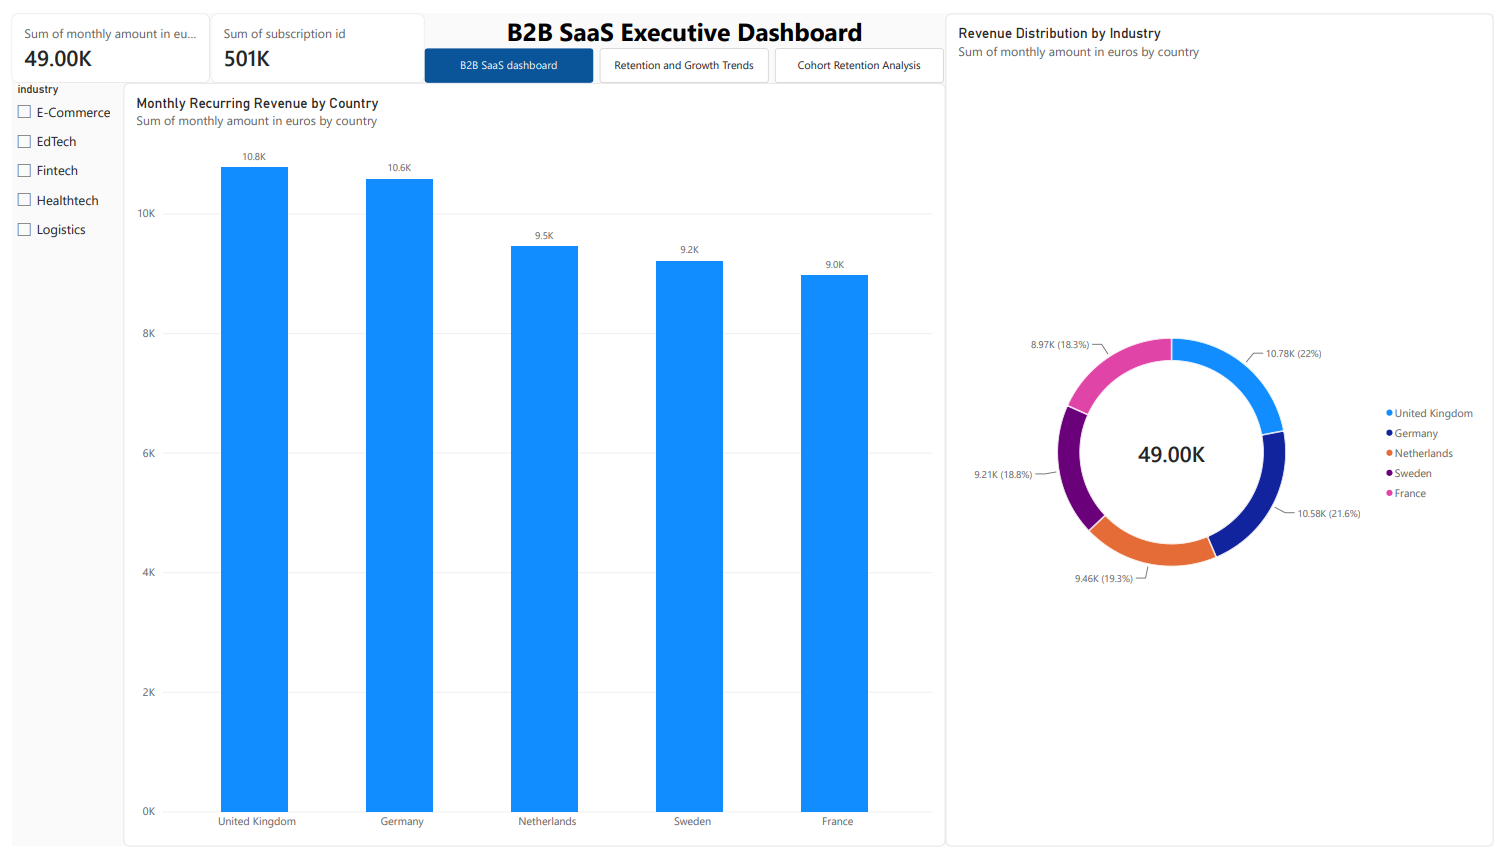

The dashboard page shown, as its layout file describes it:
{"tool":"powerbi","page":{"name":"B2B SaaS dashboard","canvas":[1920,1080],"ordinal":0},"visuals":[{"type":"clusteredColumnChart","title":"Monthly Recurring Revenue by Country","fields":{"Category":["public dim_customers.country"],"Y":["Sum(public fact_subscriptions.monthly_amount_eur)"]},"box":[145,90,1065,990],"z":0},{"type":"slicer","fields":{"Values":["public dim_customers.industry"]},"box":[0,90,145,227.5],"z":1000},{"type":"donutChart","title":"Revenue Distribution by Industry","fields":{"Category":["public dim_customers.country"],"Y":["Sum(public fact_subscriptions.monthly_amount_eur)"]},"box":[1210,0,710,1080],"z":2000},{"type":"textbox","box":[535,0,675,90],"z":3000},{"type":"cardVisual","fields":{"Data":["Sum(public fact_subscriptions.monthly_amount_eur)"]},"box":[0,0,257.5,90],"z":4000},{"type":"cardVisual","fields":{"Data":["Sum(public fact_subscriptions.subscription_id)"]},"box":[257.5,0,277.5,90],"z":5000},{"type":"pageNavigator","box":[535,45,675,45],"z":6000}]}

Visuals, with their boxes in screenshot pixels (x1, y1, x2, y2), scaled from the page's 1920x1080 canvas onto the 1506x862 screenshot:
"Monthly Recurring Revenue by Country" clusteredColumnChart: (114, 72, 949, 861)
slicer - public dim_customers.industry: (0, 72, 114, 253)
"Revenue Distribution by Industry" donutChart: (949, 0, 1505, 861)
textbox: (420, 0, 949, 72)
cardVisual - Sum(public fact_subscriptions.monthly_amount_eur): (0, 0, 202, 72)
cardVisual - Sum(public fact_subscriptions.subscription_id): (202, 0, 420, 72)
pageNavigator: (420, 36, 949, 72)
